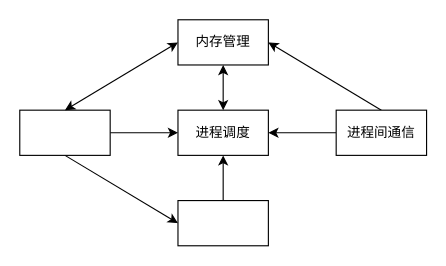
Image size: 446x266. Some labels were removed from this diagram. Here are the shapes that lost their labels. From the top down, the centre of each, then its label:
pixel 64 132: 虚拟文件系统
pixel 222 222: 网络接口
